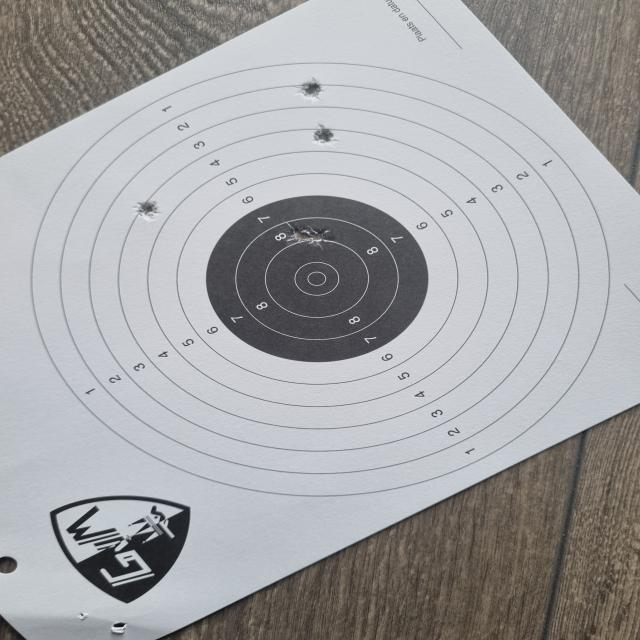2: (293, 77, 324, 100)
4: (132, 201, 161, 219), (312, 125, 339, 144)
8: (286, 222, 310, 241)
9: (310, 230, 333, 248)
Target: (32, 63, 612, 497)
black_contour: (204, 196, 430, 362)
